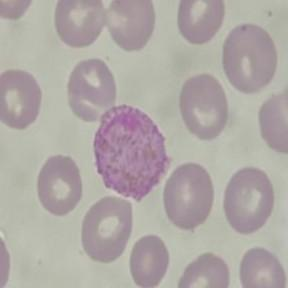Infected: (93, 105, 169, 199)
Uninfected: (222, 24, 276, 92), (81, 197, 134, 262), (162, 163, 213, 229), (222, 167, 273, 232), (180, 74, 227, 140), (66, 58, 116, 119), (36, 154, 82, 216), (0, 69, 41, 129), (106, 0, 155, 49), (55, 0, 106, 46), (128, 235, 169, 287), (177, 0, 224, 42)
